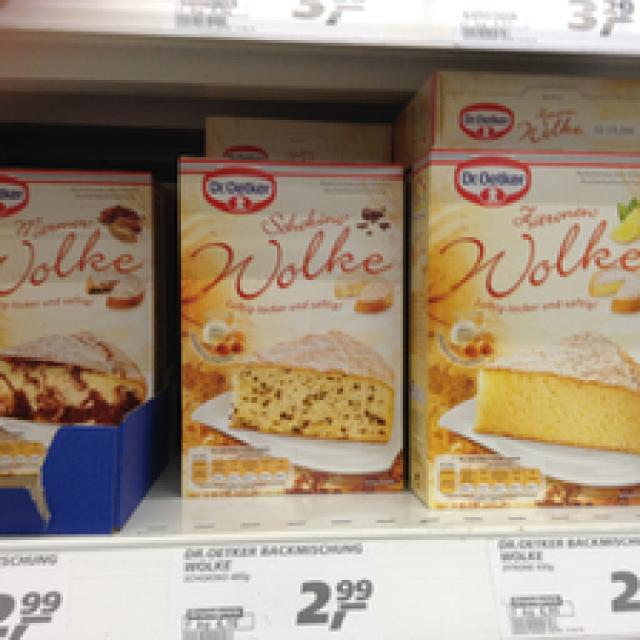groceries: (409, 143, 637, 520), (171, 152, 403, 492), (0, 159, 151, 491)
